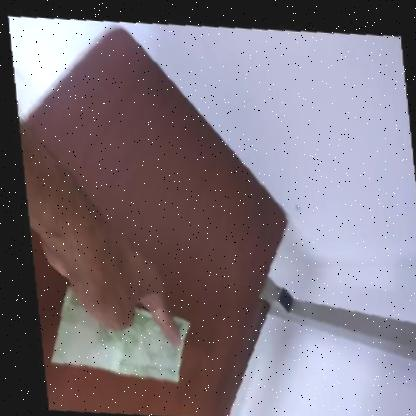fifty-back-vef: (39, 278, 191, 383)
